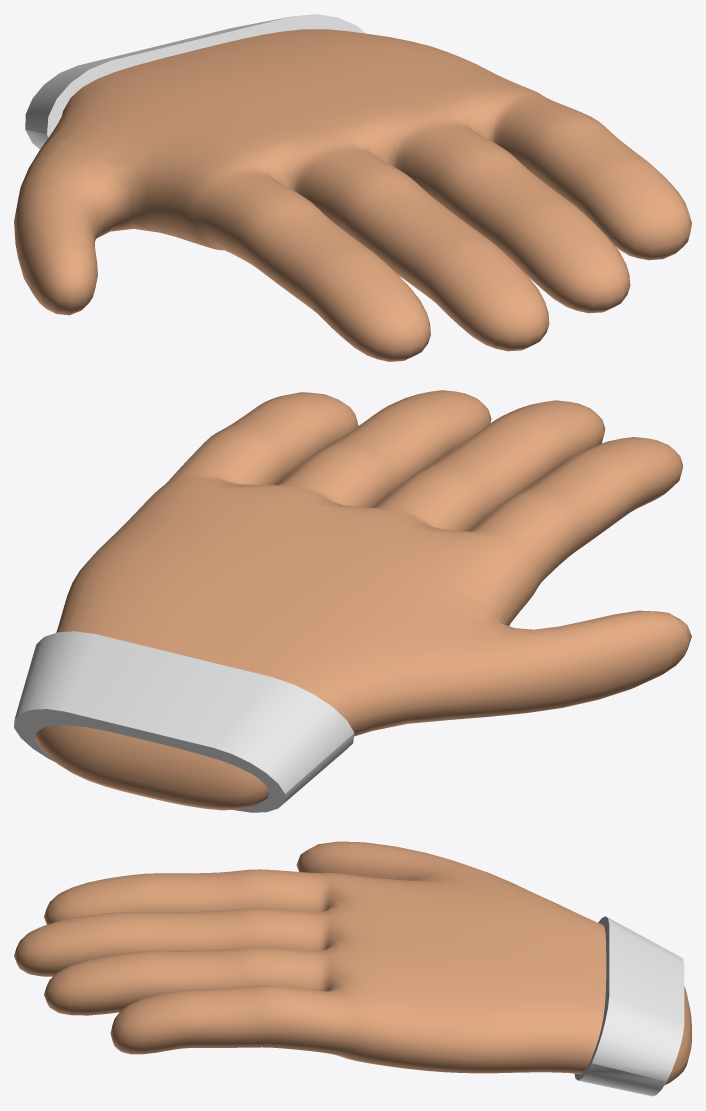
Rendered from Mano_pulsera.fbx.
3 views of the same model, one above another, from view 1: azimuth 30°, elevation 25°; view 2: azimuth 150°, elevation 25°; view 3: azimuth 270°, elevation 25° (orthographic). The views are drawn at different scales.
Parts seen in each view (by area): view 1: Cube, Cube.001; view 2: Cube, Cube.001; view 3: Cube, Cube.001.
Boxes of the visible parts, <box> form: Cube: <box>14,29,691,361</box>; Cube.001: <box>25,14,365,149</box>; Cube: <box>35,390,691,810</box>; Cube.001: <box>14,631,354,812</box>; Cube: <box>14,841,691,1085</box>; Cube.001: <box>574,916,684,1096</box>.
Bounding box in the file's own units: 30.84 × 8.84 × 42.24.
